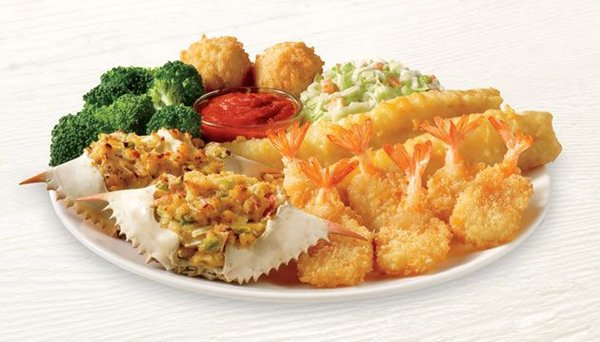curry: (49, 60, 205, 166)
